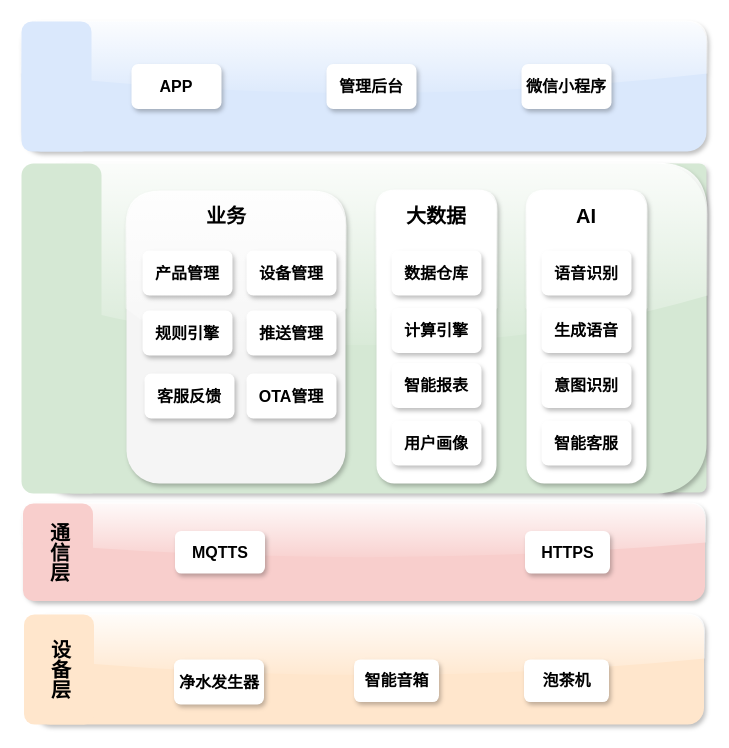
This 729x748 diagram has some shape labels left out. The centre of each missing label's shape, as x and y in pixels:
平台层: the point at 61,328
应用层: the point at 56,86
